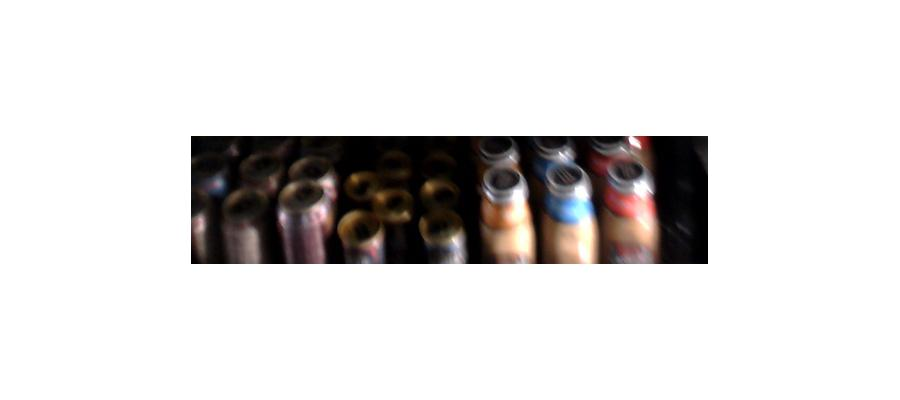bottle: (536, 145, 595, 265), (599, 137, 655, 261), (478, 137, 534, 260), (274, 169, 329, 263), (219, 175, 273, 262), (420, 167, 465, 262)
